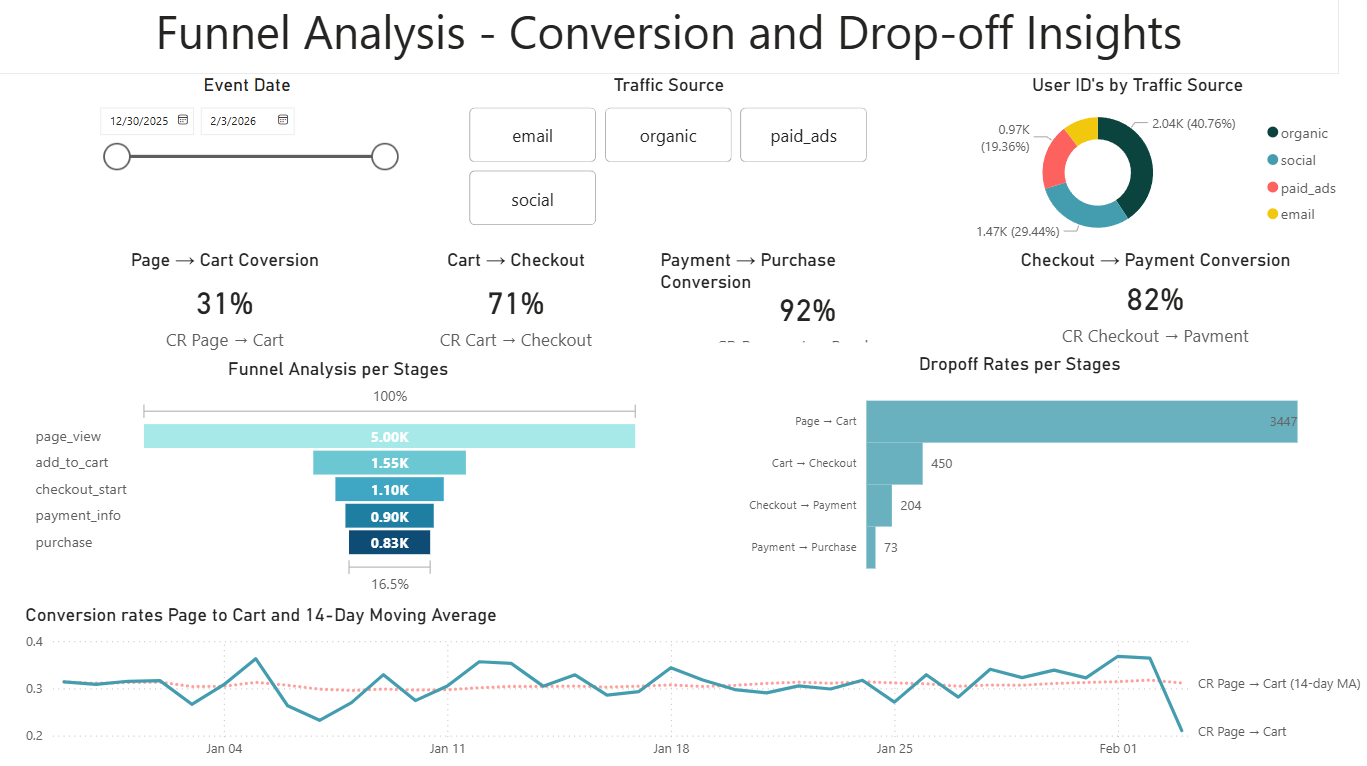

Layout of this report page (visuals, bound fields, positions):
{"tool":"powerbi","page":{"name":"Insights","canvas":[1280,720],"ordinal":0},"visuals":[{"type":"funnel","title":"Funnel Analysis per Stages","fields":{"Category":["fa_user_events.event_type"],"Y":["Count(fa_user_events.user_id)"]},"box":[28.8,338.2,573,224.1],"z":0},{"type":"card","title":"Page → Cart Coversion","fields":{"Values":["fa_user_events.CR Page → Cart"]},"box":[40.5,235.8,339.3,100.3],"z":1000},{"type":"card","title":"Cart → Checkout","fields":{"Values":["fa_user_events.CR Cart → Checkout"]},"box":[360.6,235.8,241.1,100.3],"z":2000},{"type":"card","title":"Checkout → Payment Conversion","fields":{"Values":["fa_user_events.CR Checkout → Payment"]},"box":[905.9,235.8,340.4,92.8],"z":3000},{"type":"card","title":"Payment → Purchase Conversion","fields":{"Values":["fa_user_events.CR Payment → Purchase"]},"box":[610.3,235.8,283.8,92.8],"z":4000},{"type":"clusteredBarChart","title":"Dropoff Rates per Stages","fields":{"Category":["DropoffStages.Stage"],"Y":["DropoffStages.Dropoff Value"]},"box":[686.1,328.6,527.1,226.2],"z":5000},{"type":"textbox","box":[0,0,1246.2,74.7],"z":6000},{"type":"lineChart","title":"Conversion rates Page to Cart and  14-Day Moving Average","fields":{"Category":["fa_user_events.event_date_only"],"Y":["fa_user_events.CR Page → Cart (14-day MA)","fa_user_events.CR Page → Cart"]},"box":[20.3,567.6,1260.1,152.6],"z":7000},{"type":"slicer","title":"Event Date","fields":{"Values":["fa_user_events.event_date_only"]},"box":[81.4,74.4,298.8,137.2],"z":8000},{"type":"advancedSlicerVisual","title":"Traffic Source","fields":{"Values":["fa_user_events.traffic_source"]},"box":[432.6,74.4,381.4,146.5],"z":9000},{"type":"donutChart","title":"User ID''s by Traffic Source","fields":{"Category":["fa_user_events.traffic_source"],"Y":["Count(fa_user_events.user_id)"]},"box":[860.5,74.4,397.7,162.8],"z":10000}]}

Visuals, with their boxes in screenshot pixels (x1, y1, x2, y2), scaled from the page's 1280x720 canvas onto the 1367x766 screenshot:
"Funnel Analysis per Stages" funnel: l=31, t=360, r=643, b=598
"Page → Cart Coversion" card: l=43, t=251, r=406, b=358
"Cart → Checkout" card: l=385, t=251, r=643, b=358
"Checkout → Payment Conversion" card: l=967, t=251, r=1331, b=350
"Payment → Purchase Conversion" card: l=652, t=251, r=955, b=350
"Dropoff Rates per Stages" clusteredBarChart: l=733, t=350, r=1296, b=590
textbox: l=0, t=0, r=1331, b=79
"Conversion rates Page to Cart and  14-Day Moving Average" lineChart: l=22, t=604, r=1366, b=765
"Event Date" slicer: l=87, t=79, r=406, b=225
"Traffic Source" advancedSlicerVisual: l=462, t=79, r=869, b=235
"User ID''s by Traffic Source" donutChart: l=919, t=79, r=1344, b=252
